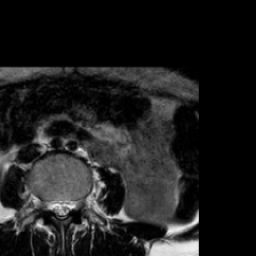CCS_normal: (56, 189, 64, 225)
LFS_normal: (73, 189, 83, 218)
LLS_normal: (64, 190, 73, 220)
RFS_normal: (39, 189, 47, 218)
RLS_normal: (47, 187, 56, 220)
